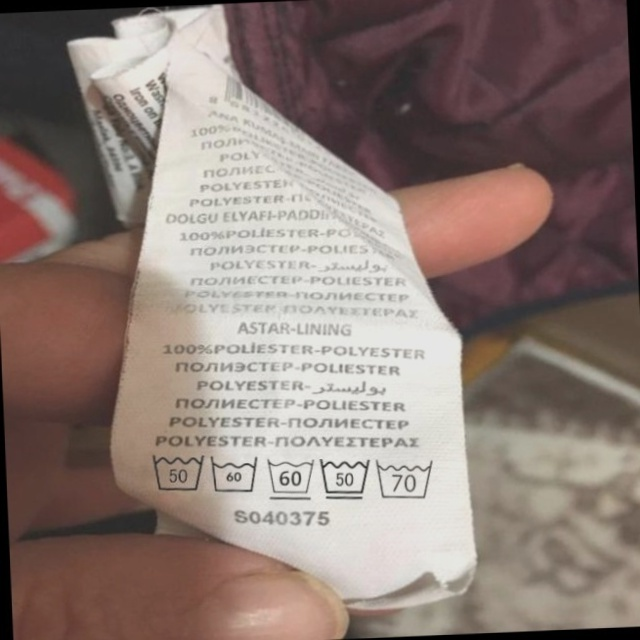50C: (145, 445, 209, 498), (317, 453, 375, 504)
60C: (265, 452, 320, 502), (208, 451, 264, 499)
70C: (375, 455, 441, 503)
